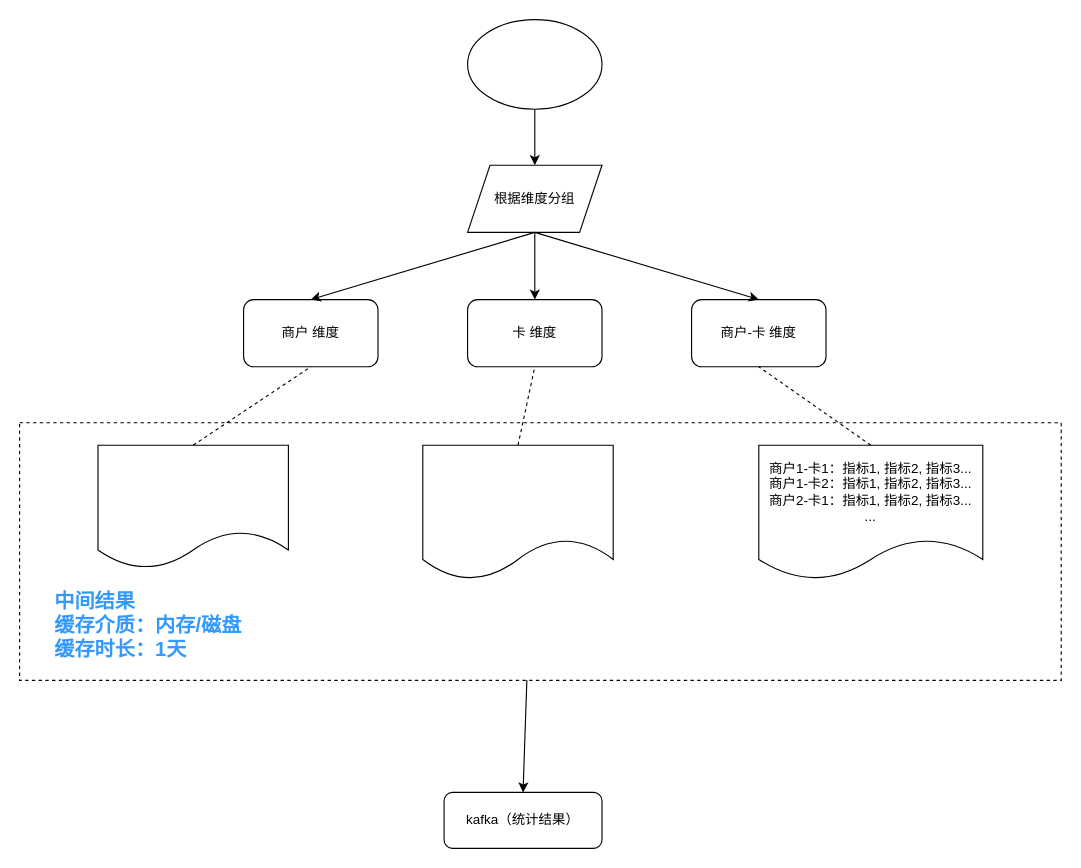
This 1081x868 diagram has some shape labels left out. Here are the shapes that lost their labels. From the top down, the box of each, then its label:
(466, 18, 602, 109): kafka（订单流水）
(97, 444, 288, 568): 商户1：指标1, 指标2, 指标3... 商户2：指标1, 指标2, 指标3... 商户3：指标1, 指标2, 指标3... ...
(422, 444, 613, 580): 卡1：指标1, 指标2, 指标3... 卡2：指标1, 指标2, 指标3... 卡3：指标1, 指标2, 指标3... ...
